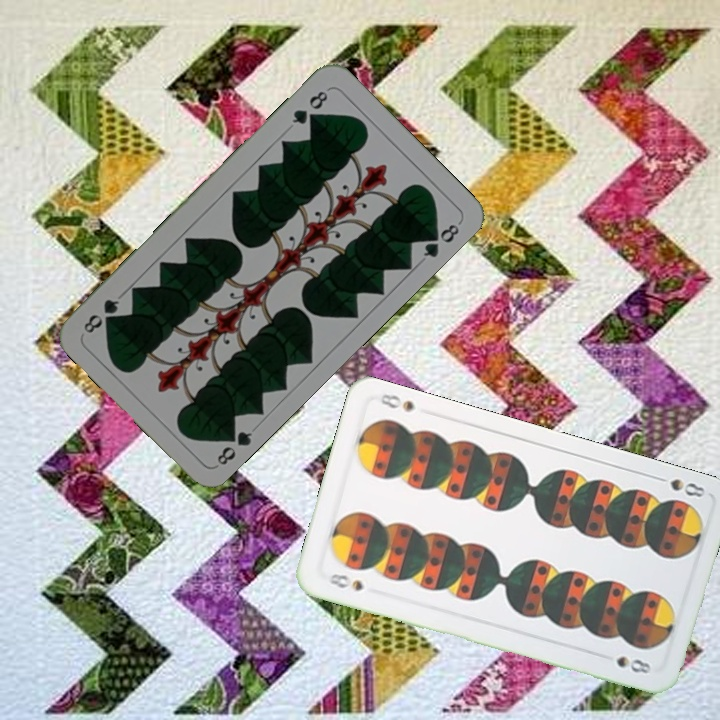G8: (212, 423, 255, 469), (287, 86, 331, 128)
S8: (650, 472, 708, 500), (323, 569, 366, 594)
